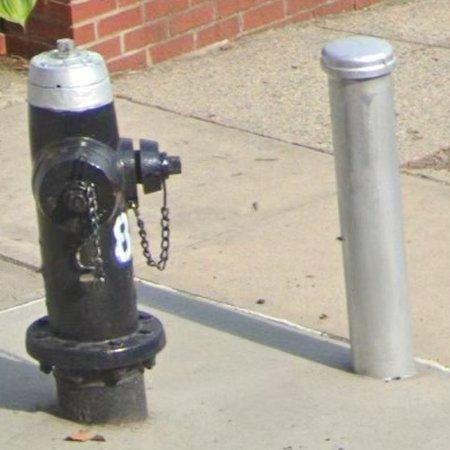a fire hydrant: (26, 39, 181, 423)
